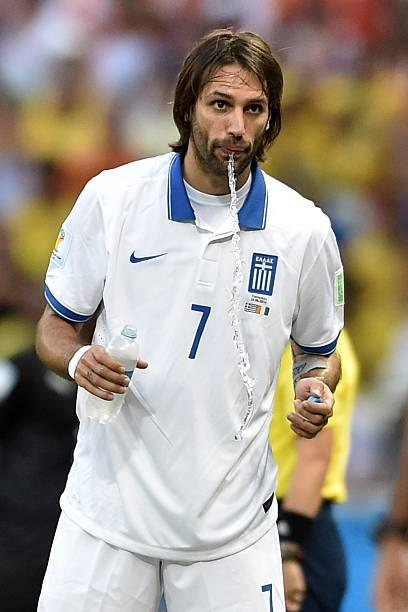Spitting: (156, 3, 309, 186)
